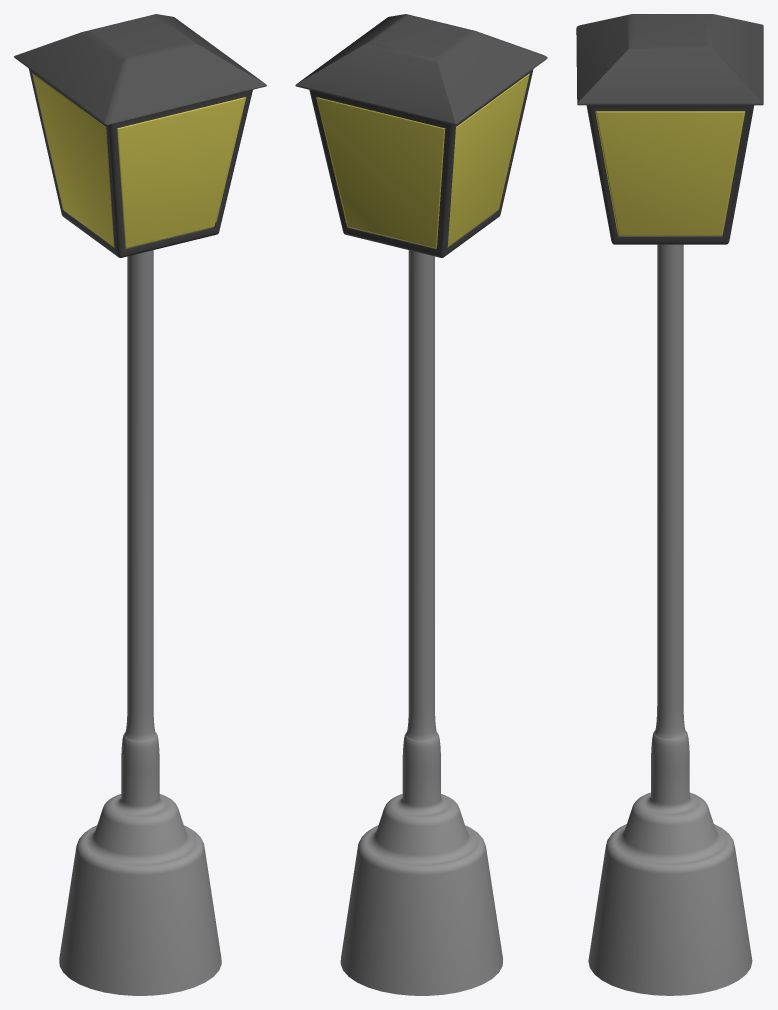
File: Poste.fbx
3 views of the same model, side by side, from view 1: azimuth 30°, elevation 25°; view 2: azimuth 150°, elevation 25°; view 3: azimuth 270°, elevation 25° (orthographic).
Visible parts, largest first — view 1: Cylinder, Cube.001, Cube; view 2: Cylinder, Cube.001, Cube; view 3: Cylinder, Cube, Cube.001.
Boxes of the visible parts, x1,y1,x2,y2 form: Cylinder: [59, 250, 221, 995]; Cube.001: [32, 74, 246, 248]; Cube: [14, 14, 266, 257]; Cylinder: [340, 250, 502, 995]; Cube.001: [316, 73, 529, 248]; Cube: [295, 14, 547, 257]; Cylinder: [588, 244, 752, 995]; Cube: [576, 14, 763, 244]; Cube.001: [595, 111, 745, 235].
Size of the model in its own units: 3.94 by 21.64 by 3.94.
